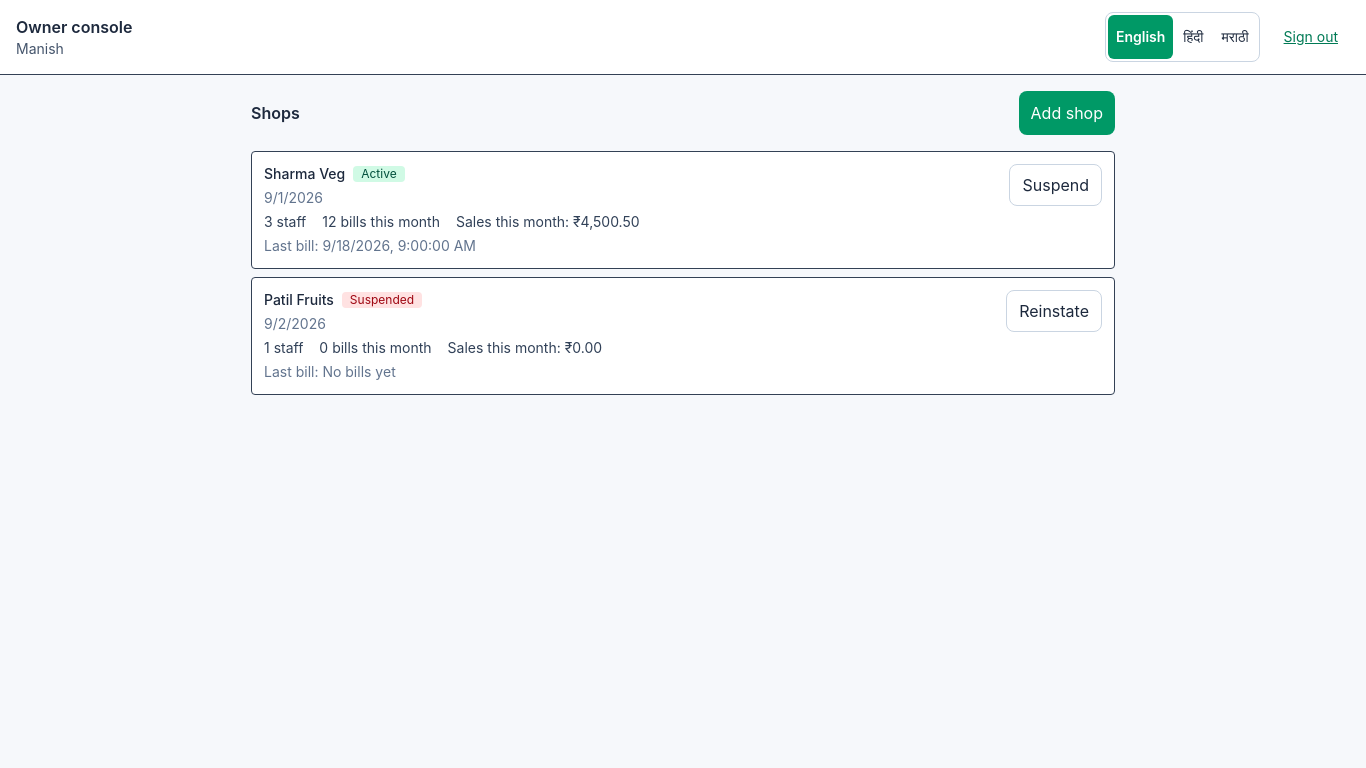
Test: the owner console › validates the add form, then creates with the exact body
This screenshot has width=1366, height=768.
Expected: the list item with test id "owner-vendor-v1" is shown, [251,151,1115,269]
Click the button with test id "owner-add".
click(1067, 113)  # box [1019,91,1115,135]
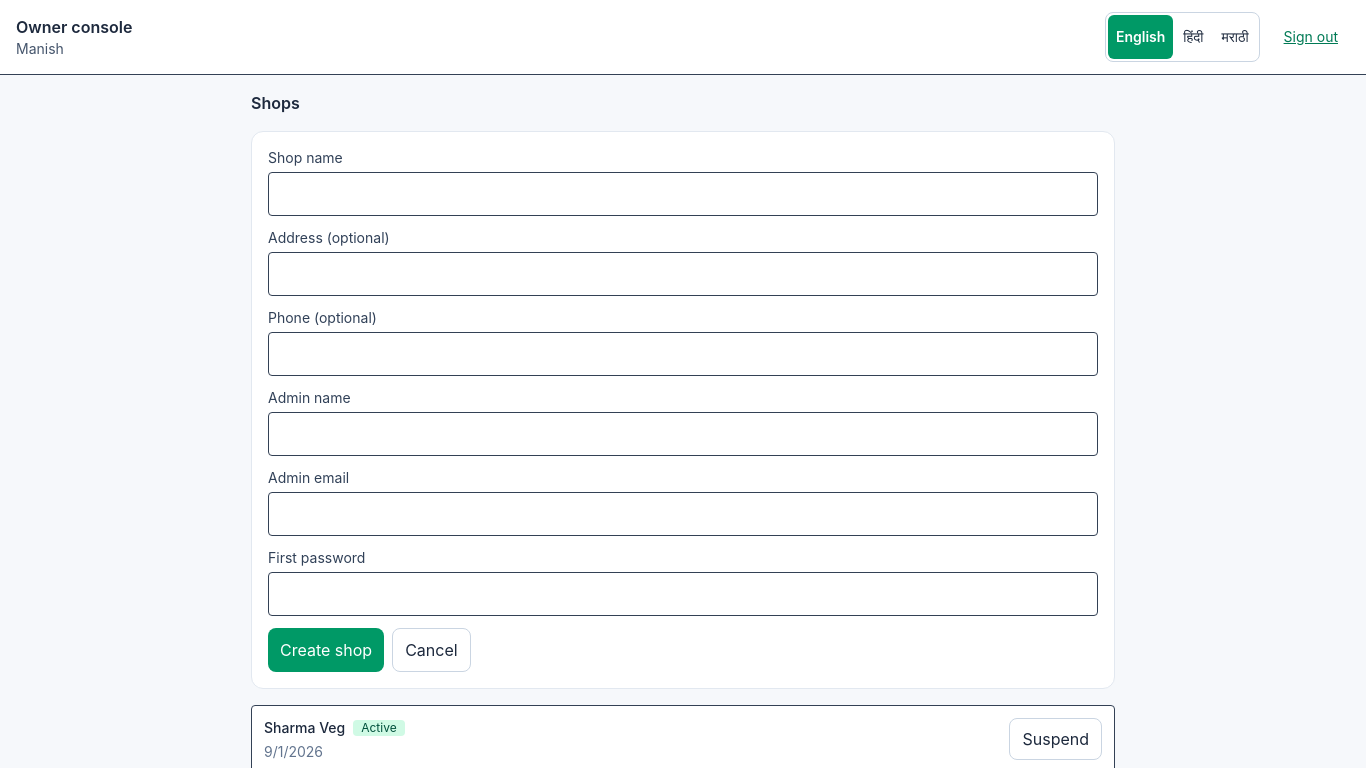
Click the button with test id "owner-save".
click(326, 650)  # box [268,628,384,672]
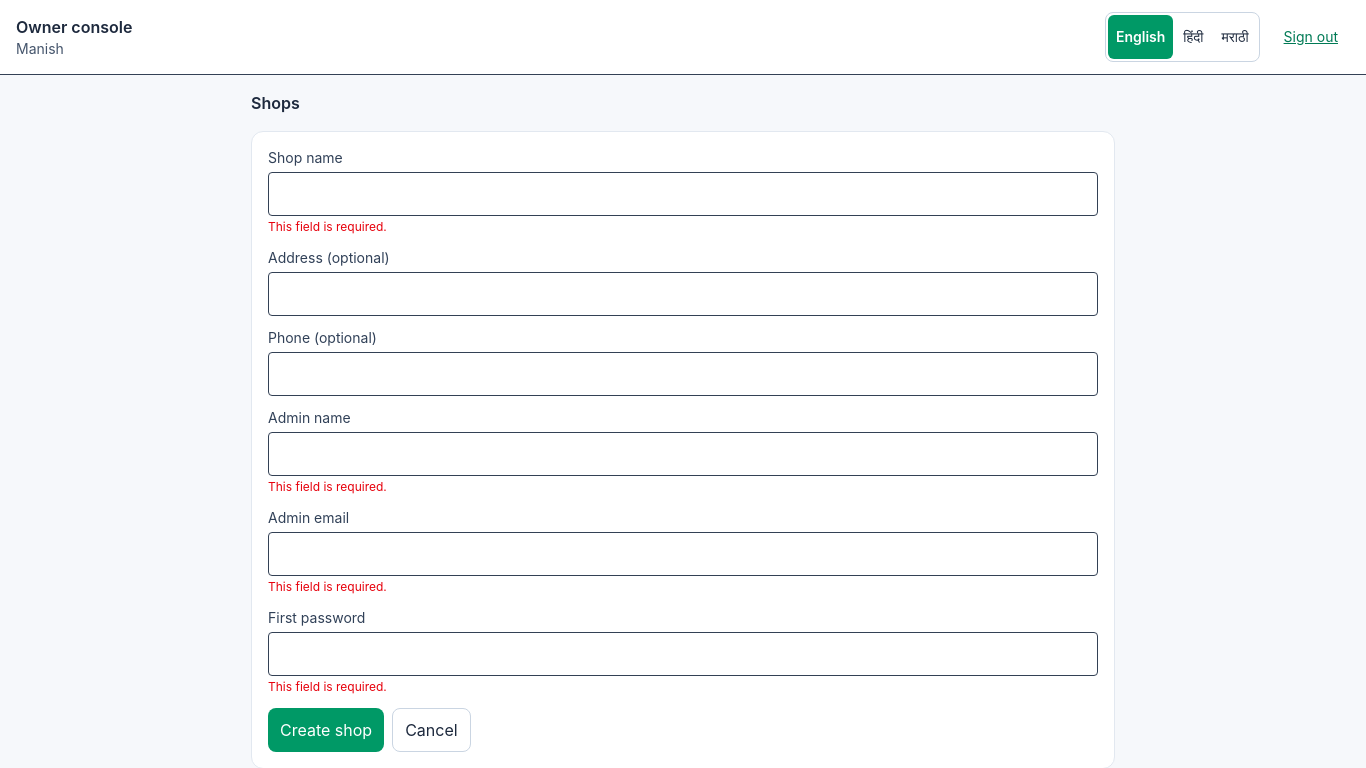
Now the text "This field is required." below "Shop name" is shown, box [268,219,387,234]
Type "New Shop" into the field with test id "owner-vendorName".
click(683, 194); type("New Shop")  # box [268,172,1098,216]
Type "98200" into the field with test id "owner-phone".
click(683, 374); type("98200")  # box [268,352,1098,396]
Type "Asha" into the field with test id "owner-adminName".
click(683, 454); type("Asha")  # box [268,432,1098,476]
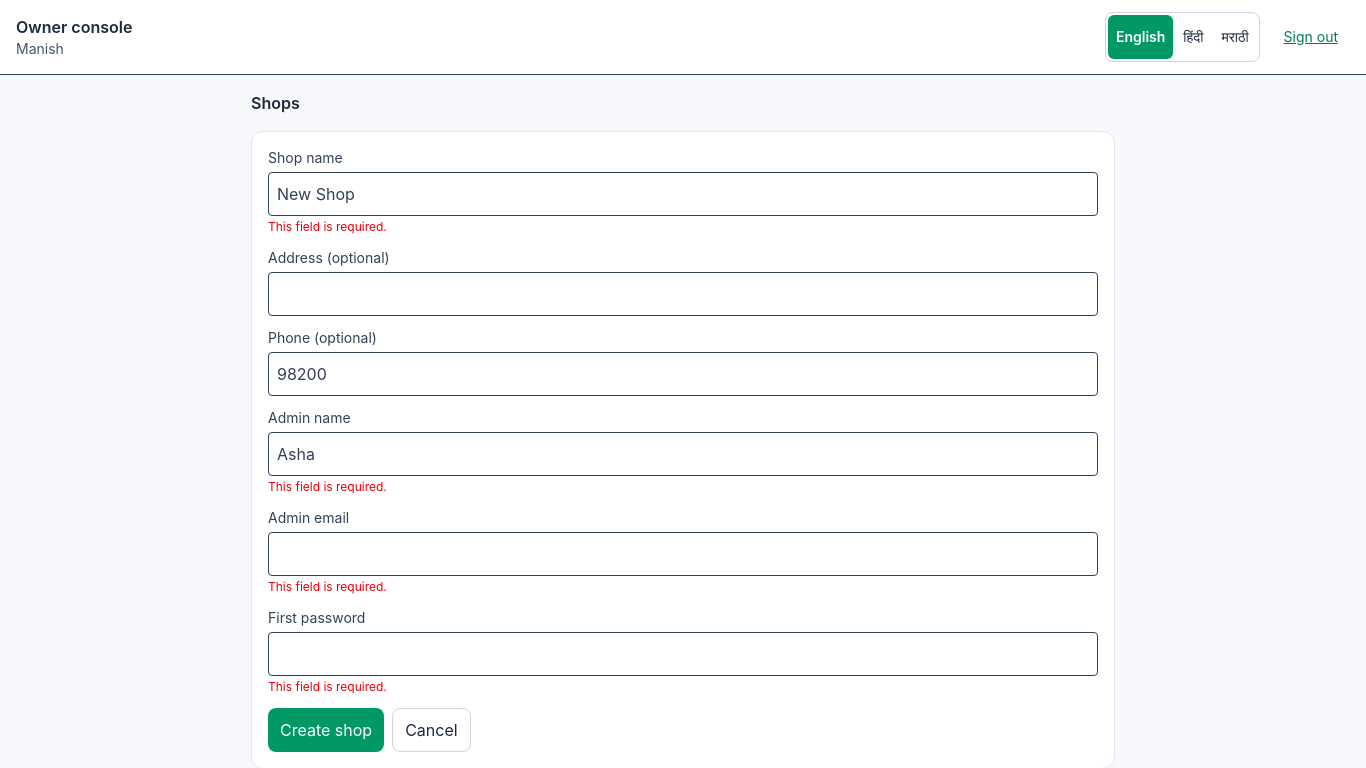
Type "asha@shop.test" into the field with test id "owner-email".
click(683, 554); type("asha@shop.test")  # box [268,532,1098,576]
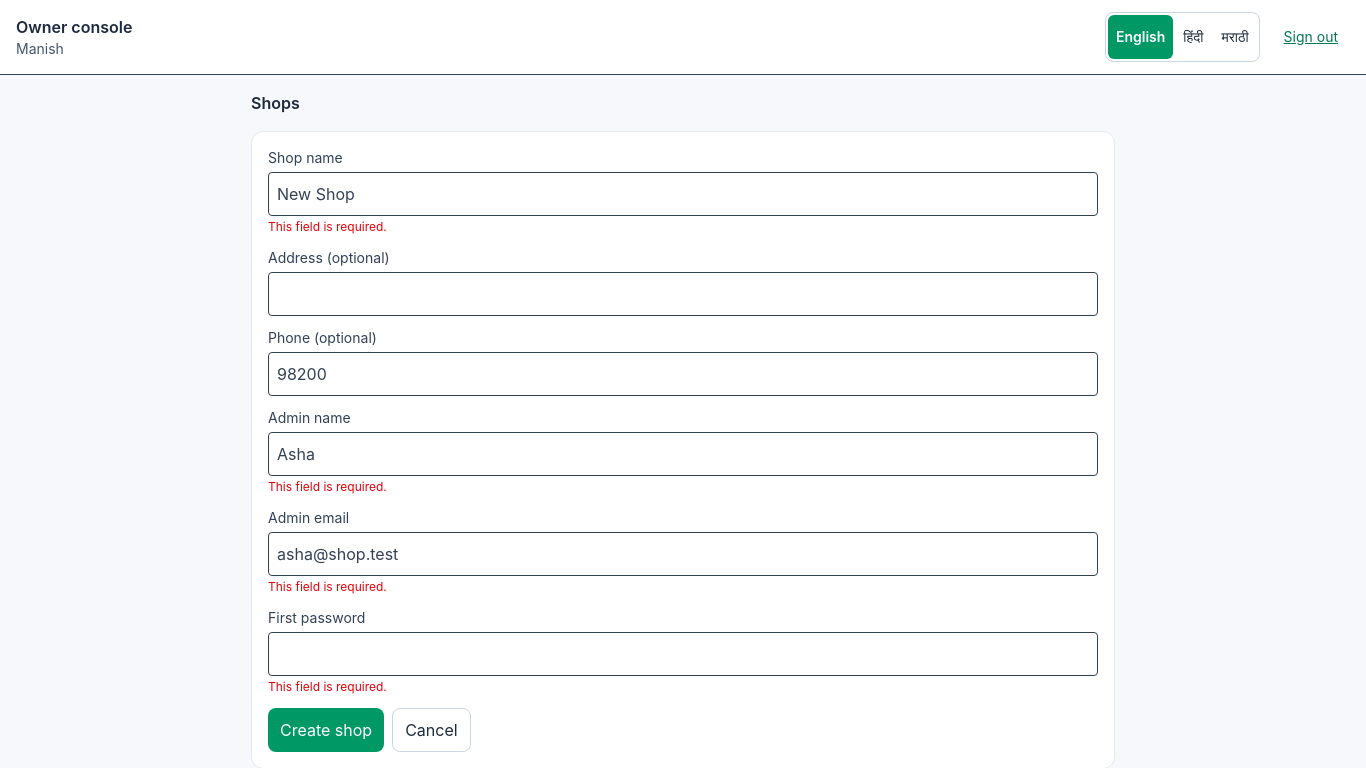
Type "sunflower9" into the password field with test id "owner-password".
click(683, 654); type("sunflower9")  # box [268,632,1098,676]
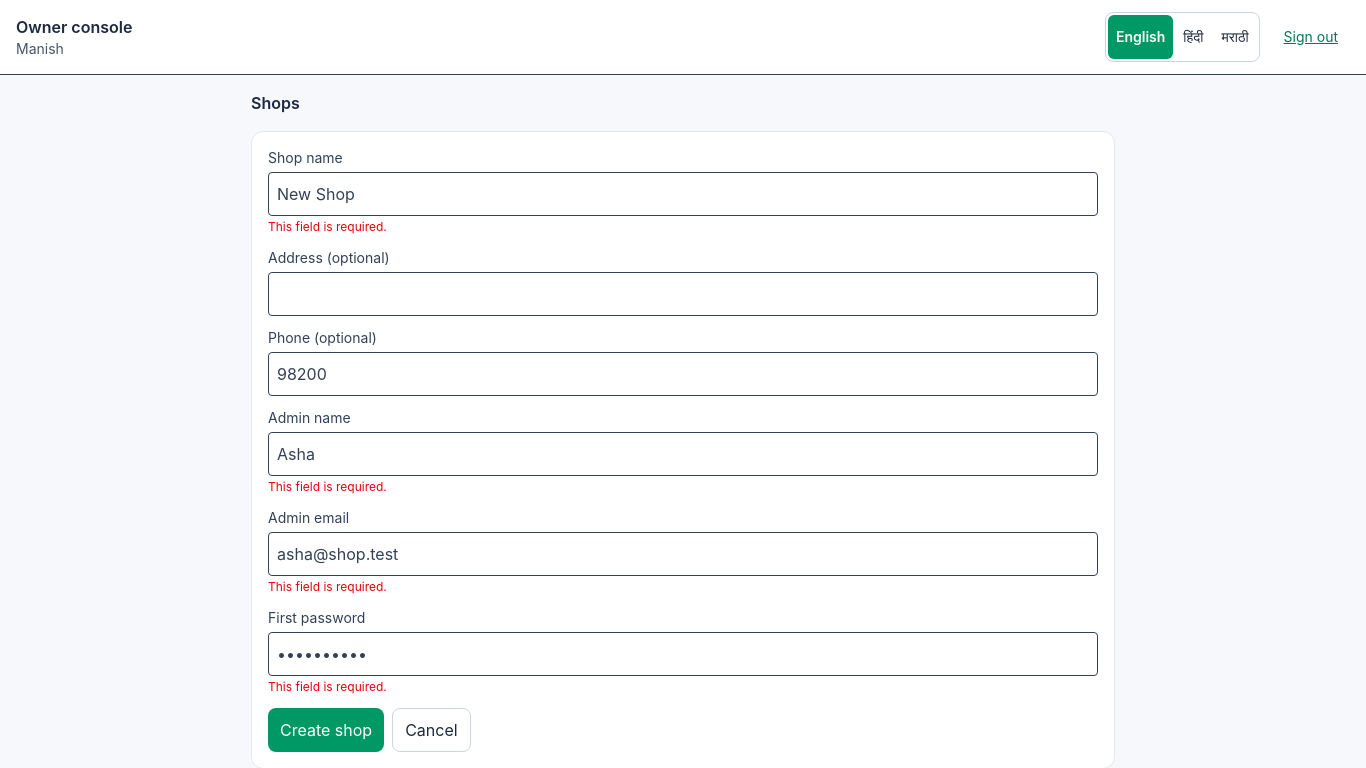
Click the button with test id "owner-save".
click(326, 730)  # box [268,708,384,752]
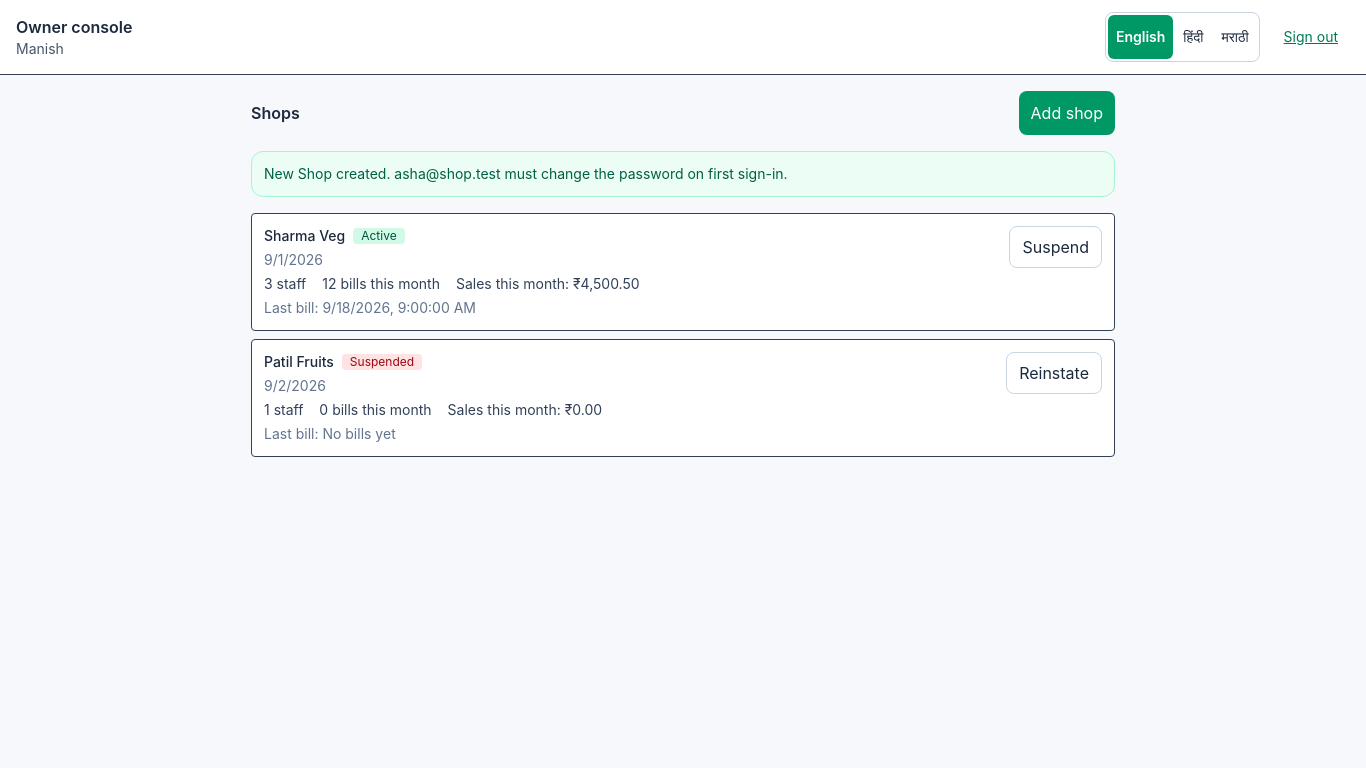
Now the text with test id "owner-created" shows "New Shop created.", box [264,165,788,182]
